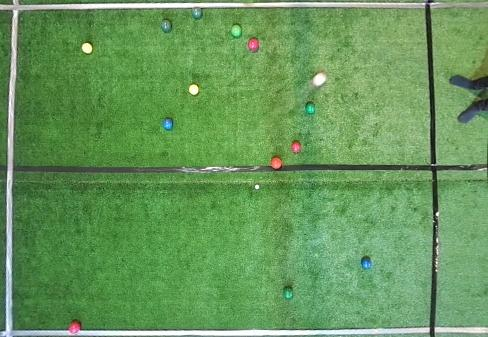blue: (162, 119, 173, 131), (361, 258, 371, 270)
green: (282, 288, 293, 299), (231, 25, 241, 37), (192, 7, 202, 19), (161, 20, 171, 32), (305, 104, 315, 114)
red: (312, 72, 327, 86), (68, 321, 81, 334), (270, 157, 282, 169), (248, 38, 259, 51), (291, 141, 301, 153)
vline: (424, 0, 487, 336), (0, 0, 21, 336)
white: (255, 185, 259, 189)
yellow: (81, 43, 93, 55), (188, 84, 199, 96)
